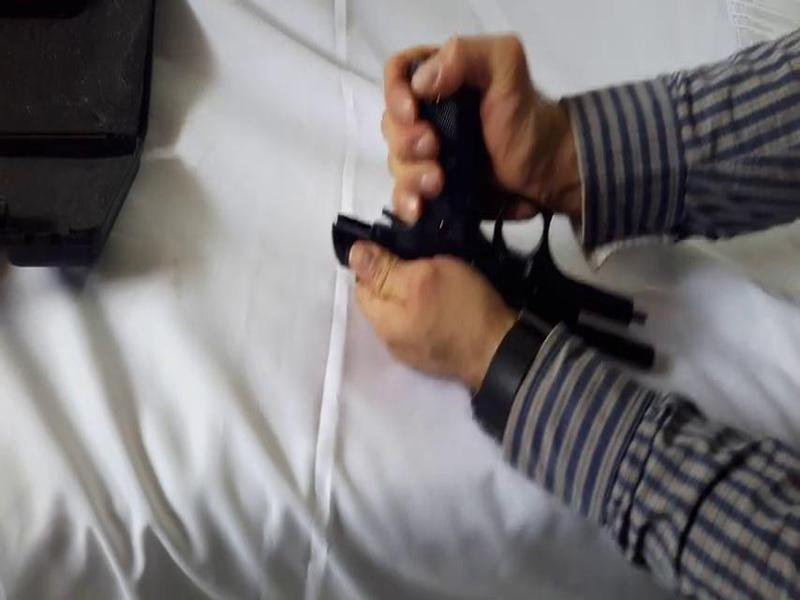Pistola: (327, 58, 653, 394)
